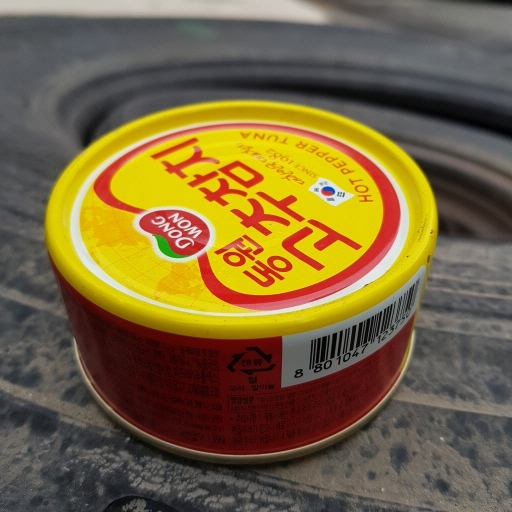Metal_1: (39, 97, 442, 460)
